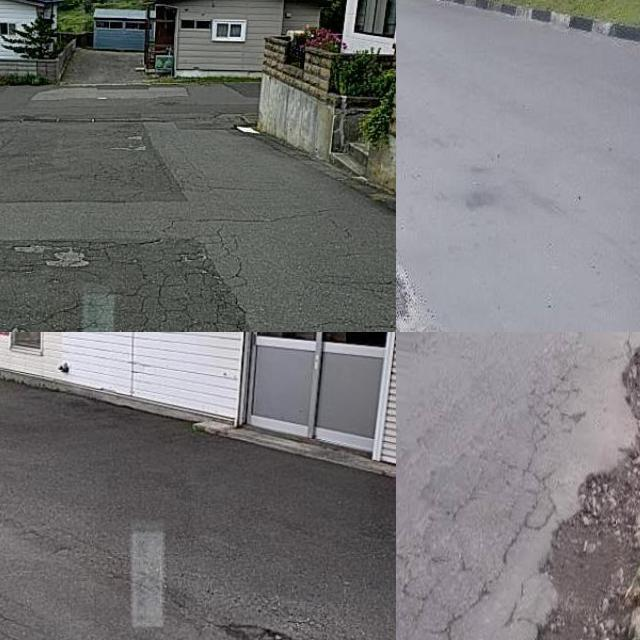Lubang: (226, 621, 296, 640)
Pinggir: (509, 332, 640, 640)
Sambungan: (0, 237, 241, 332), (0, 117, 191, 205)
